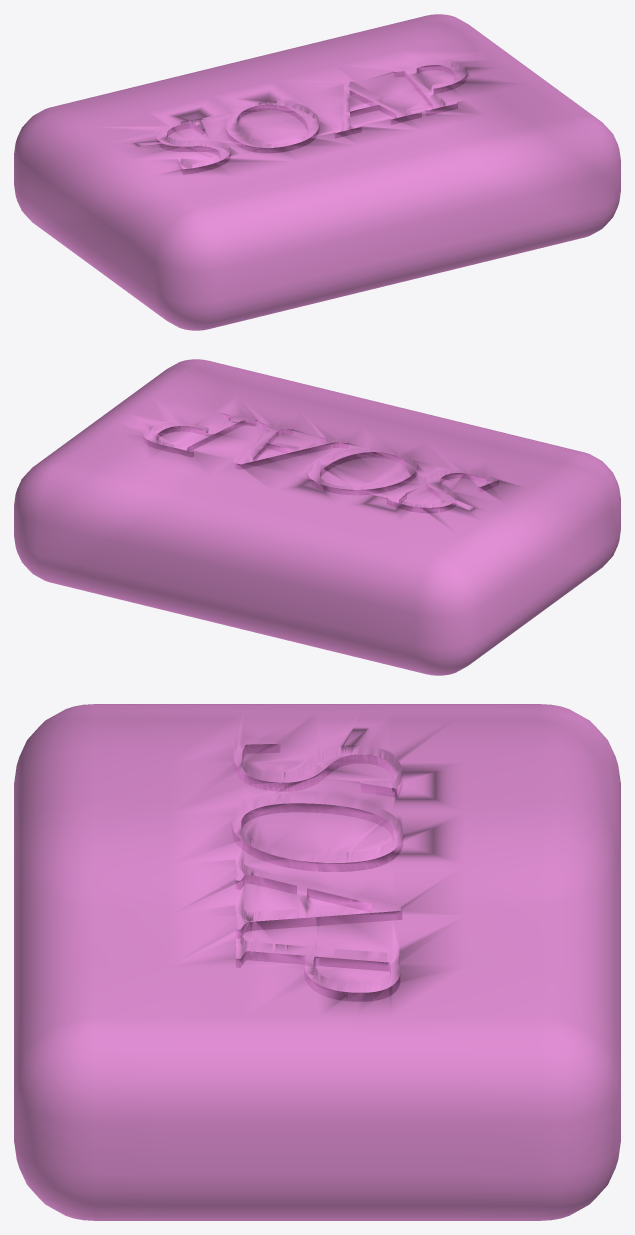
File: Soap FREE_FBX.fbx
The picture shows the model from 3 angles, top to bottom: view 1: azimuth 30°, elevation 25°; view 2: azimuth 150°, elevation 25°; view 3: azimuth 270°, elevation 25°; orthographic projection. The views are drawn at different scales.
Parts seen in each view (by area): view 1: ChamferBox001; view 2: ChamferBox001; view 3: ChamferBox001.
Part boxes in pixels (bbox=[...]): ChamferBox001: bbox=[14, 14, 620, 330]; ChamferBox001: bbox=[14, 359, 620, 675]; ChamferBox001: bbox=[14, 704, 620, 1220].
Bounding box in the file's own units: 107 × 26.21 × 73.5.
